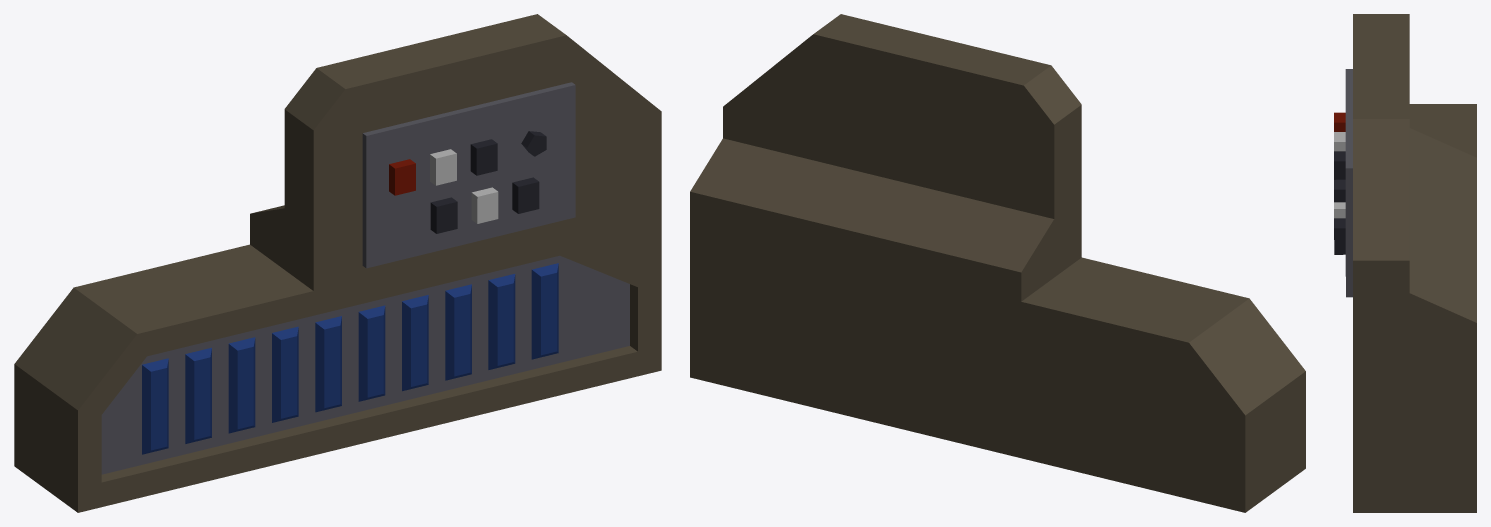
The model's file is LPSciFiCharacter_TerminalC.fbx.
The picture shows the model from 3 angles, left to right: view 1: azimuth 30°, elevation 25°; view 2: azimuth 150°, elevation 25°; view 3: azimuth 270°, elevation 25°; orthographic projection. The views are drawn at different scales.
Parts seen in each view (by area): view 1: TerminalC; view 2: TerminalC; view 3: TerminalC.
Boxes of the visible parts, x1,y1,x2,y2 form: TerminalC: [14, 14, 661, 512]; TerminalC: [690, 14, 1305, 512]; TerminalC: [1334, 14, 1476, 512].
Size of the model in its own units: 116 by 68.01 by 25.23.
